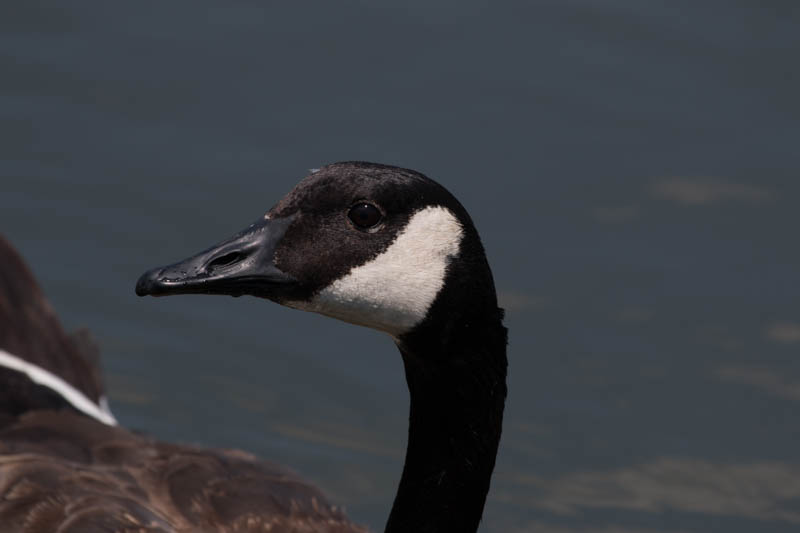goose-head: (134, 161, 497, 344)
